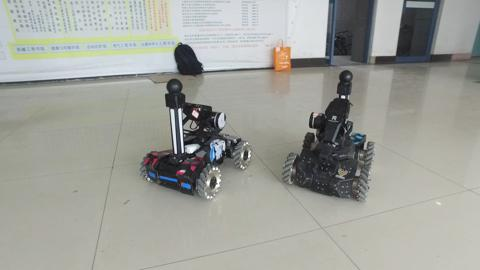chariot: (131, 74, 258, 208), (282, 66, 384, 210)
